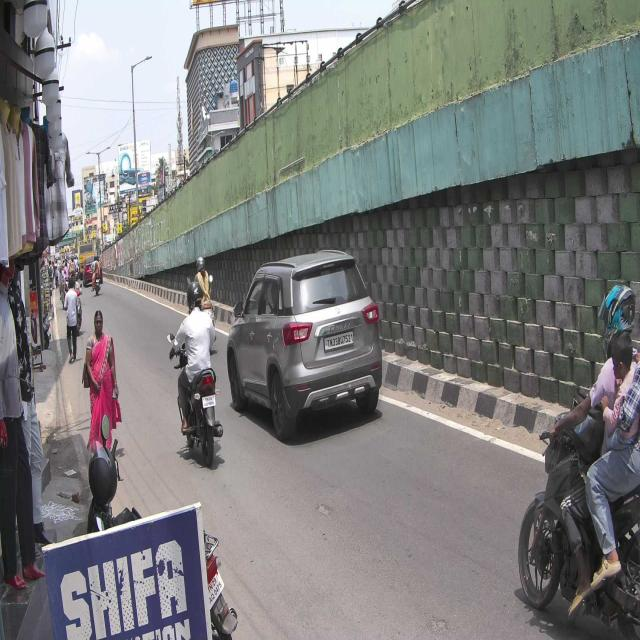single_rider: (168, 281, 227, 469)
